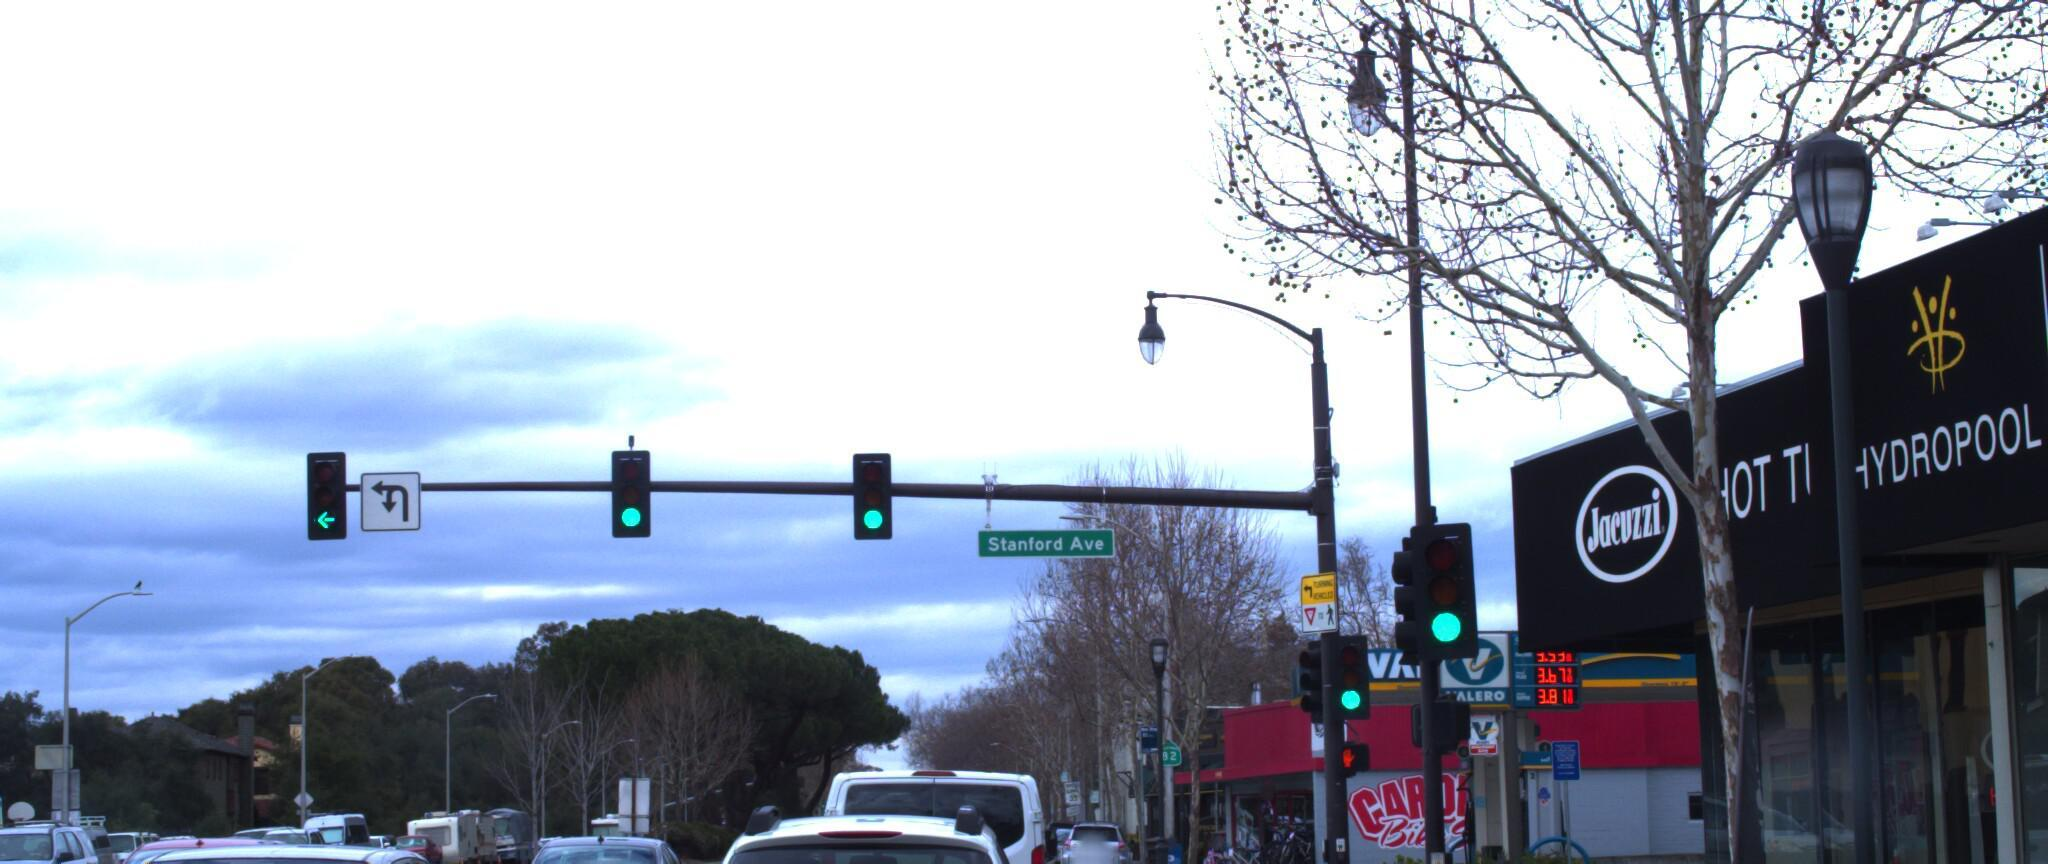car: (1872, 0, 2048, 864), (658, 778, 1080, 864), (816, 753, 1061, 864), (60, 810, 357, 864), (1479, 837, 2048, 864), (18, 841, 545, 864), (490, 821, 733, 864), (0, 664, 40, 864), (0, 805, 124, 864), (1074, 812, 1155, 864)
other_vehicle: (0, 769, 39, 864)
